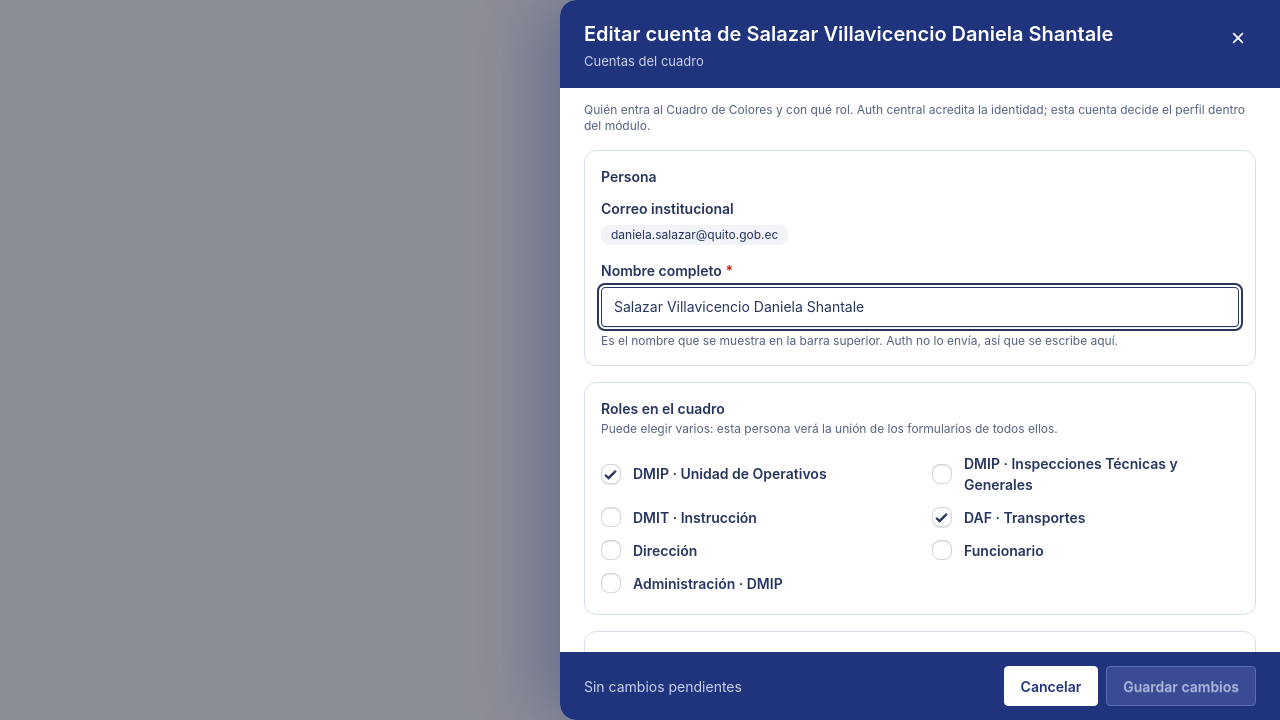
Test case: Cuentas del cuadro › varios roles a la vez › no deja guardar sin ningún rol, y dice por qué
Click the checkbox labelled "DAF · Transportes": click(942, 517) [932,507,952,527]
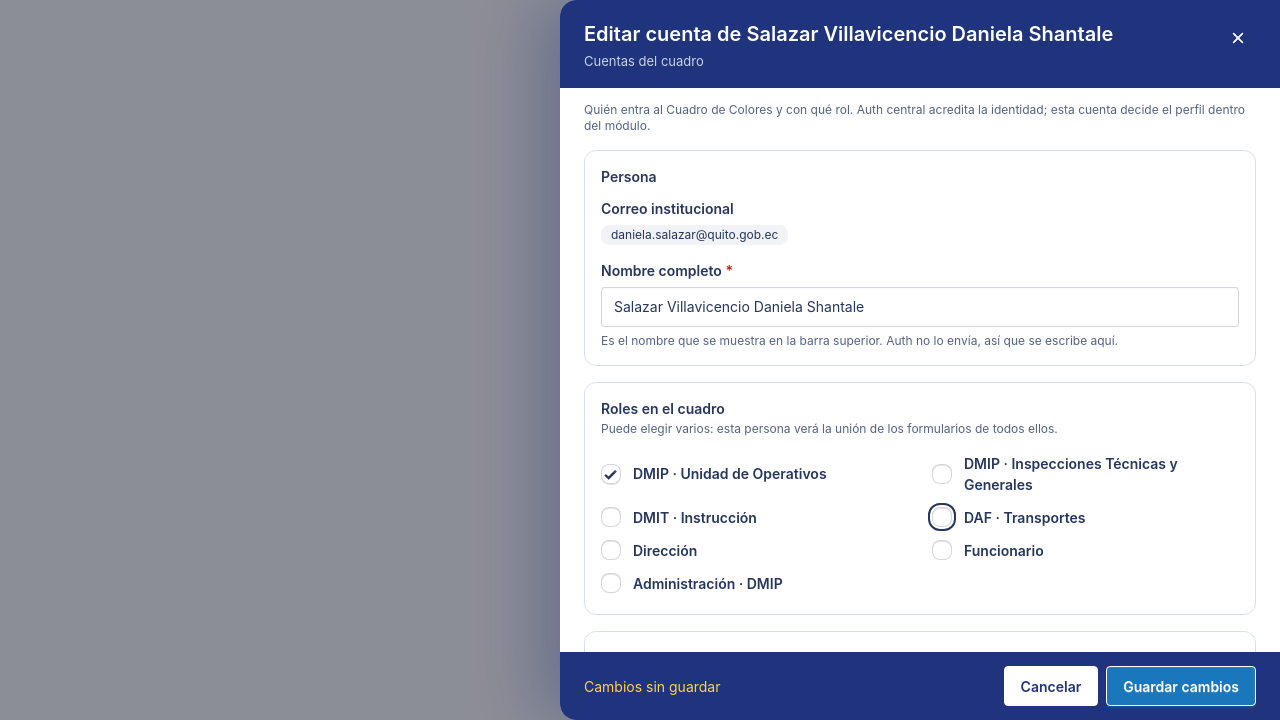
Click the checkbox labelled "DMIP · Unidad de Operativos": click(611, 474) [601,464,621,484]
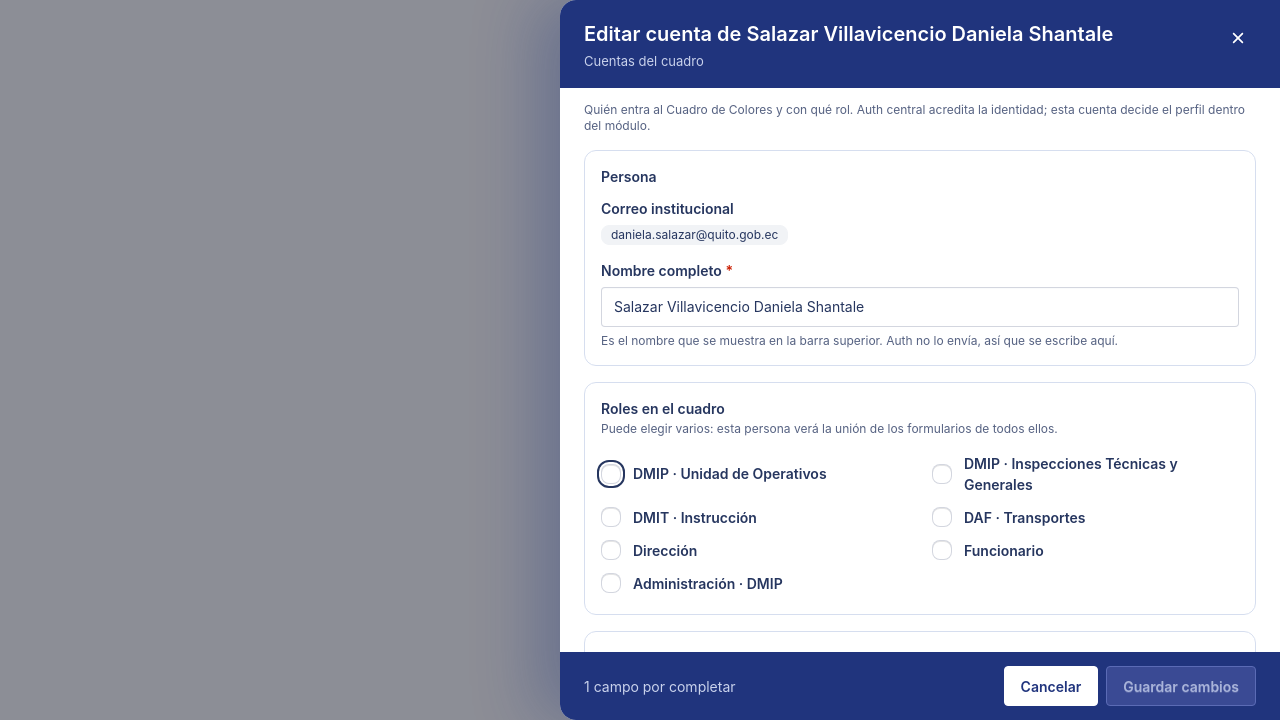
Check: the text "entraría y no podría hacer nada" is not shown
Check: the button "Guardar cambios" is disabled
Click the button "Guardar cambios": click(1181, 686) [1106,666,1256,706]
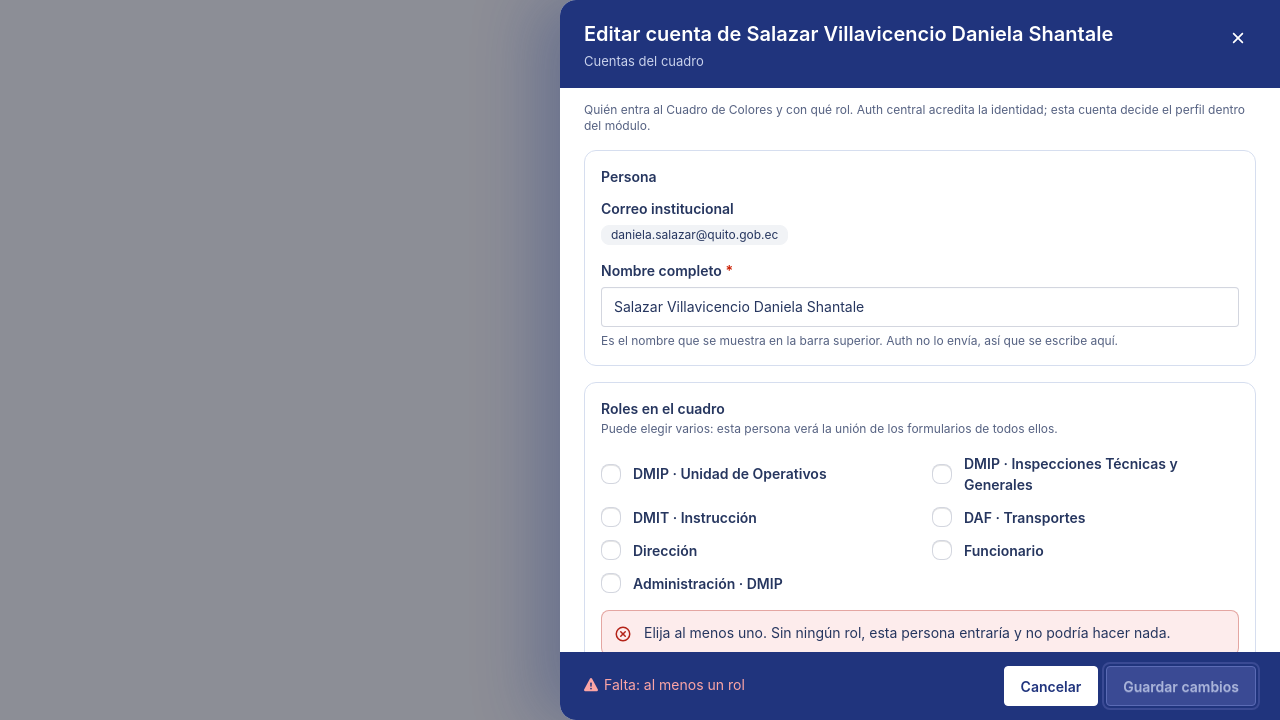
Check: the text "entraría y no podría hacer nada" is shown, box [644,624,1170,640]
Check: the text "Falta: al menos un rol" is shown, box [584,675,745,695]
